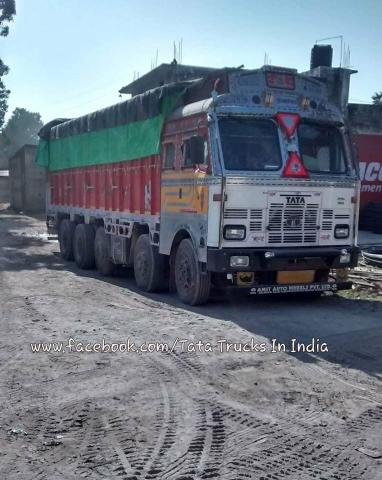truck: (41, 53, 371, 306)
